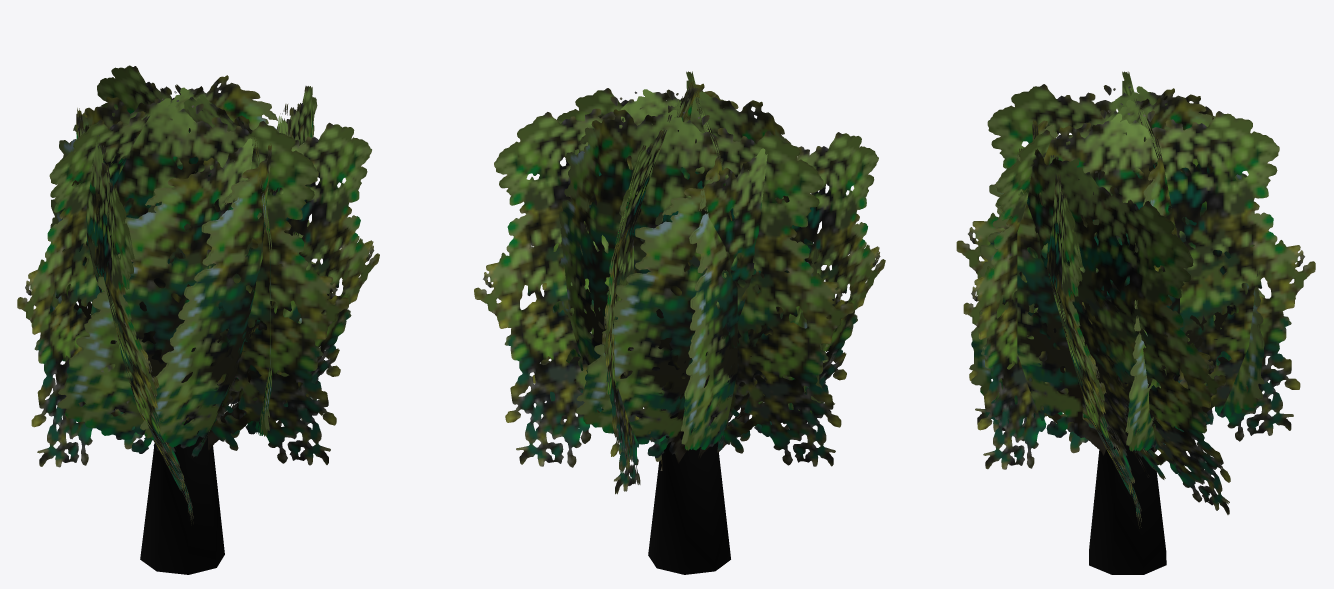
Rendered from tree_01a_ds.fbx.
3 renders of one model, left to right at view 1: azimuth 30°, elevation 25°; view 2: azimuth 150°, elevation 25°; view 3: azimuth 270°, elevation 25°, orthographic. The views are drawn at different scales.
Parts seen in each view (by area): view 1: tree_01a_ds; view 2: tree_01a_ds; view 3: tree_01a_ds.
Part boxes in pixels (<box>): tree_01a_ds: <box>17,65,379,574</box>; tree_01a_ds: <box>474,71,885,574</box>; tree_01a_ds: <box>956,71,1315,574</box>.
Size of the model in its own units: 4.63 by 5.56 by 3.99.
